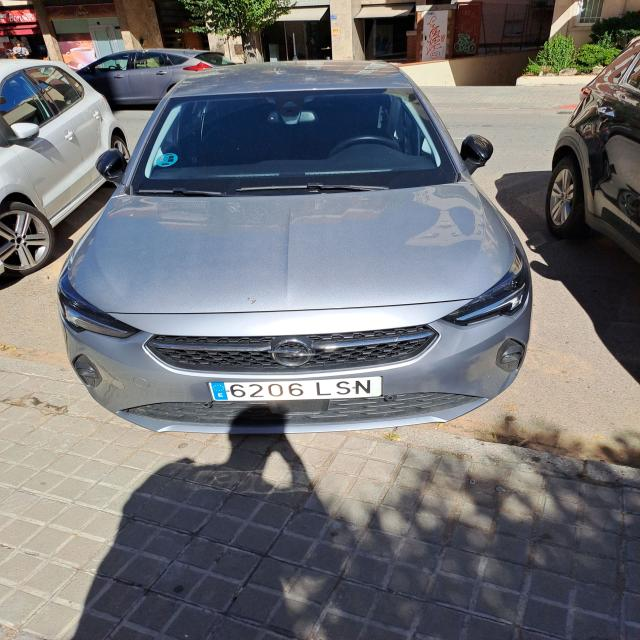license_plate-34Td: (209, 376, 382, 401)
